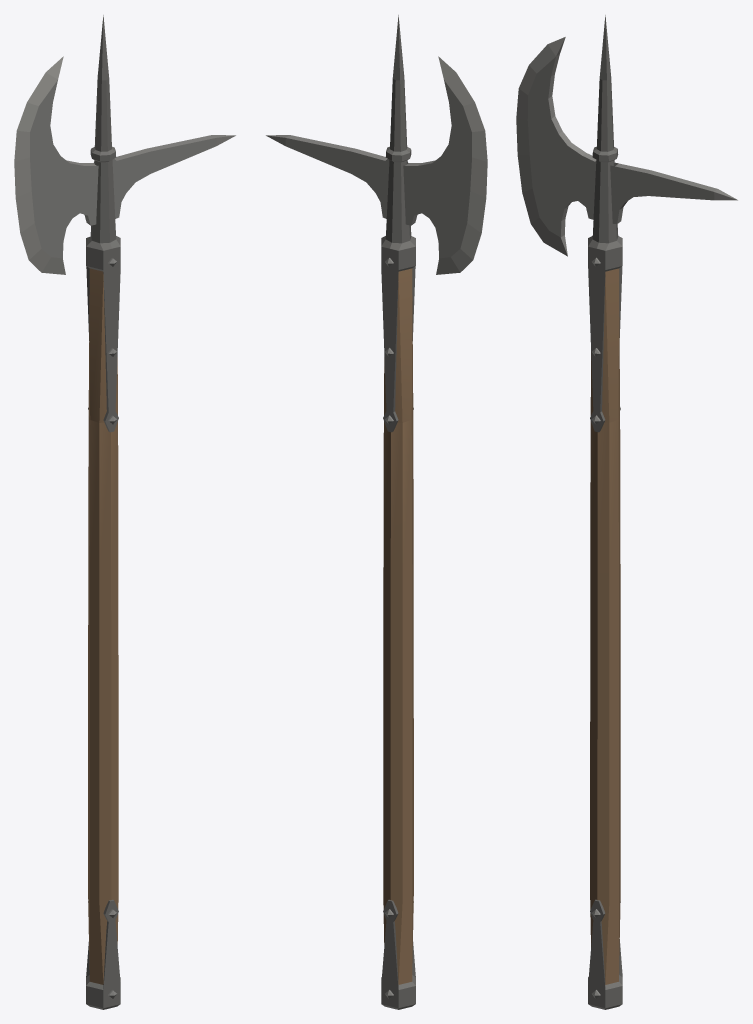
The model's file is SM_pwe_medieval_halberd_08.fbx.
3 renders of one model, left to right at view 1: azimuth 30°, elevation 25°; view 2: azimuth 150°, elevation 25°; view 3: azimuth 330°, elevation 25°, orthographic.
Visible parts, largest first — view 1: SM_pwe_medieval_halberd_08; view 2: SM_pwe_medieval_halberd_08; view 3: SM_pwe_medieval_halberd_08.
Boxes of the visible parts, left/top/right/bottom form: SM_pwe_medieval_halberd_08: left=14, top=15, right=235, bottom=1009; SM_pwe_medieval_halberd_08: left=266, top=15, right=487, bottom=1009; SM_pwe_medieval_halberd_08: left=516, top=15, right=737, bottom=1009.
Bounding box in the file's own units: 36.36 × 155 × 6.22.
